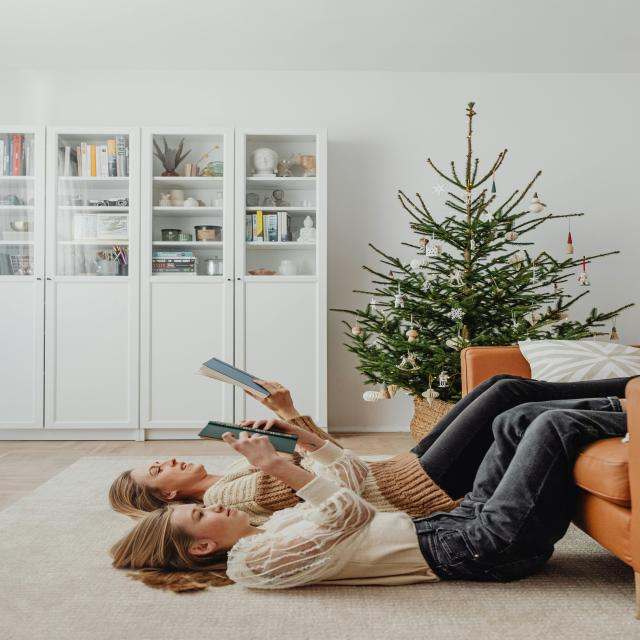lie: (128, 453, 633, 606), (82, 384, 538, 512)
